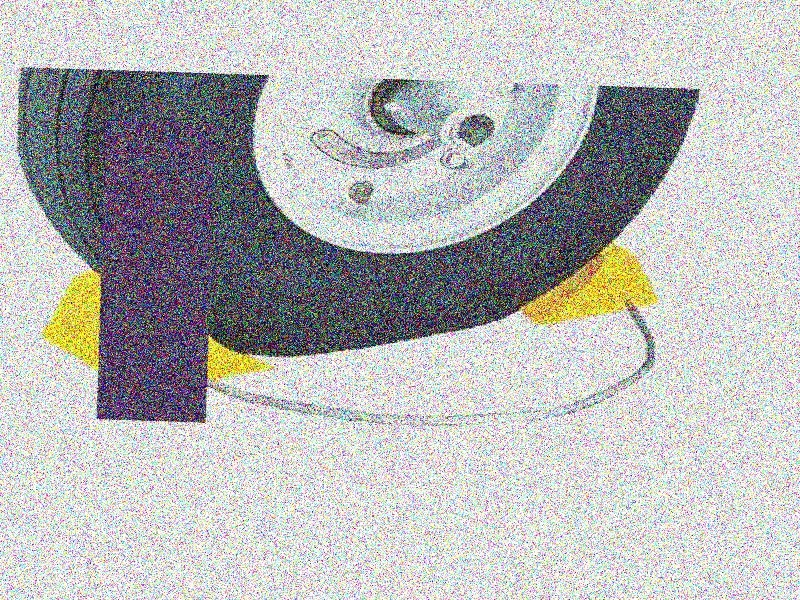chock: (38, 267, 280, 399), (496, 229, 663, 330)
wheel: (7, 69, 703, 373)
